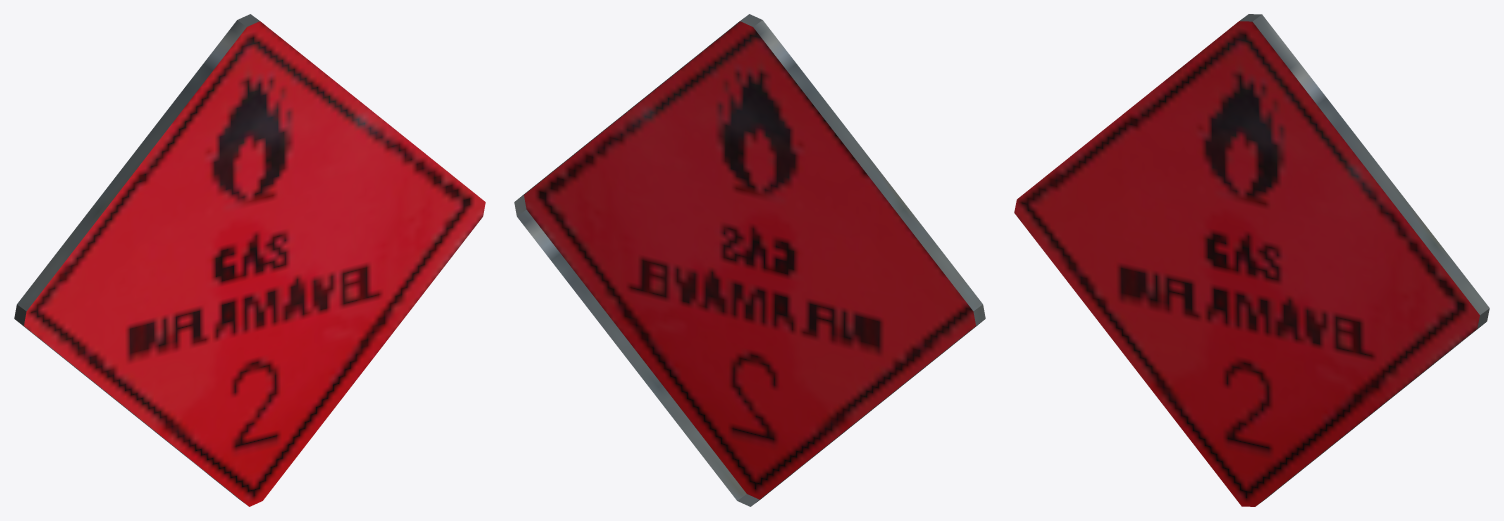
The model's file is SM_PROP_SIGN_WALL_07.fbx.
3 renders of one model, left to right at view 1: azimuth 30°, elevation 25°; view 2: azimuth 150°, elevation 25°; view 3: azimuth 330°, elevation 25°, orthographic.
Visible parts, largest first — view 1: SM_PROP_SIGN_WALL_07; view 2: SM_PROP_SIGN_WALL_07; view 3: SM_PROP_SIGN_WALL_07.
Boxes of the visible parts, box(x1,y1,x2,y2) form: SM_PROP_SIGN_WALL_07: box(14, 14, 485, 506); SM_PROP_SIGN_WALL_07: box(514, 14, 985, 506); SM_PROP_SIGN_WALL_07: box(1014, 14, 1489, 506).
Bounding box in the file's own units: 0.6899 × 0.6899 × 0.025.
